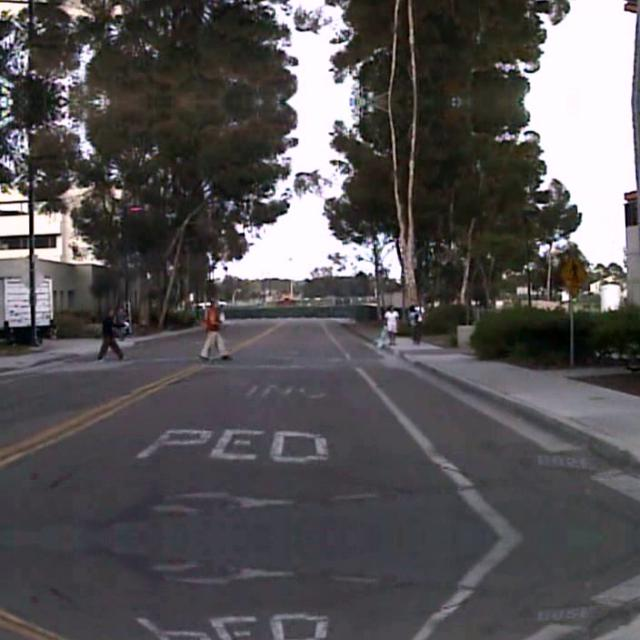pedestrianCrossing: (558, 251, 588, 291)
